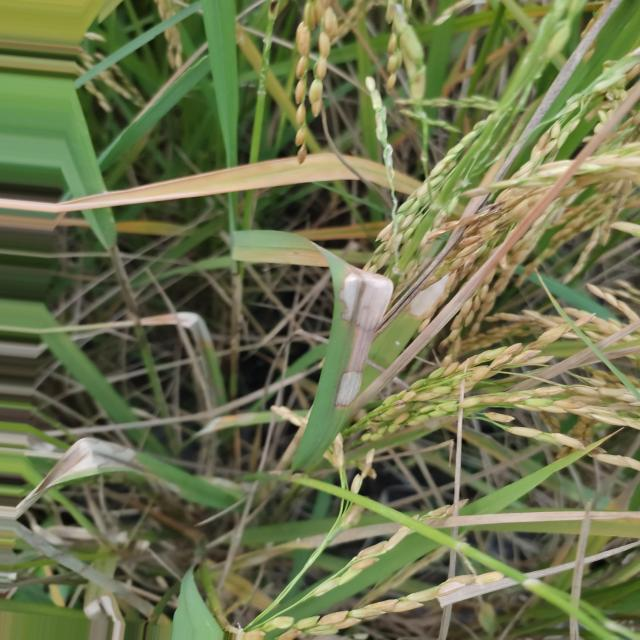Leaf_Blast: (0, 152, 358, 212), (343, 155, 388, 186), (393, 171, 420, 194)
Rice False Smut: (15, 438, 143, 518), (337, 270, 393, 405), (183, 320, 185, 321)
